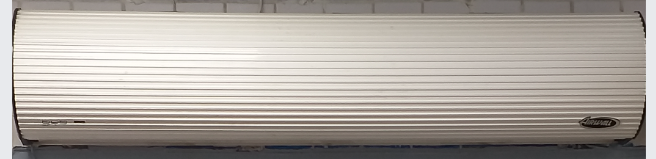Air Curtain: (13, 5, 647, 148)
